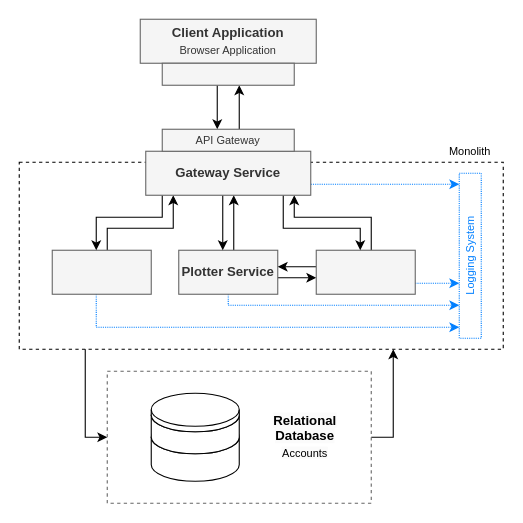
This 523x523 diagram has some shape labels left out. The shapes that lost their labels are listed below. From the top down, each one's box as (x1, y1, x2, y2) in pixels, then its label:
(161, 62, 294, 85): HTTP Client
(51, 249, 151, 294): User Service
(315, 249, 415, 294): Fitter Service
